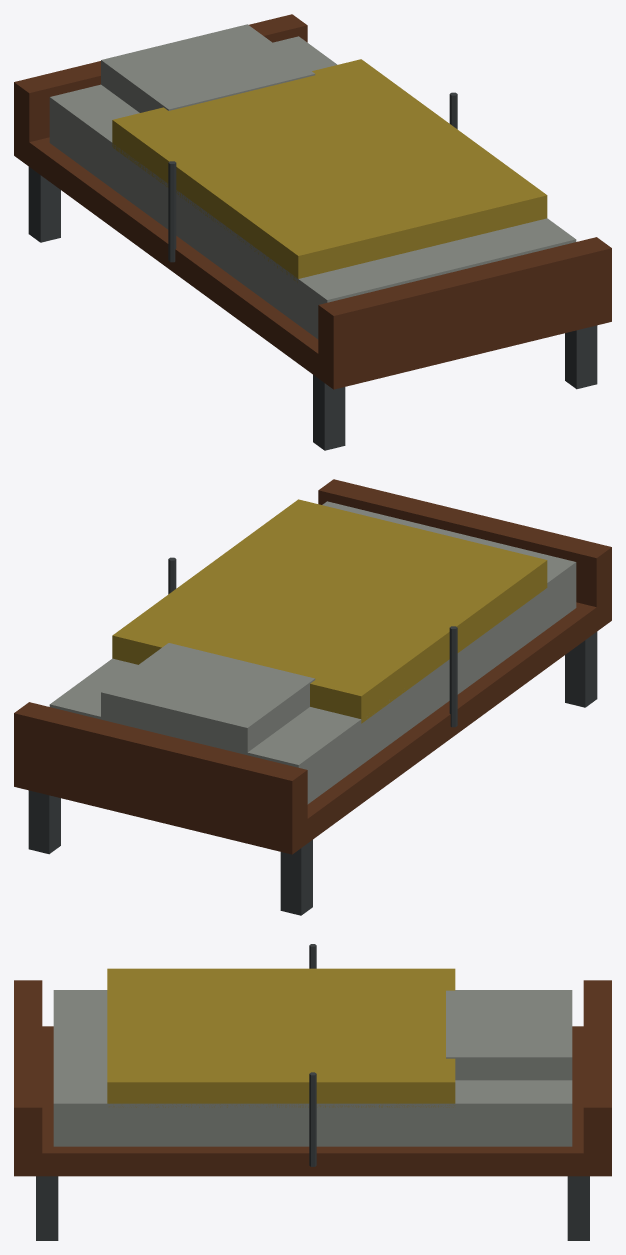
The model's file is hbed.glb.
3 renders of one model, top to bottom at view 1: azimuth 30°, elevation 25°; view 2: azimuth 150°, elevation 25°; view 3: azimuth 270°, elevation 25°, orthographic. The views are drawn at different scales.
Visible parts, largest first — view 1: body; view 2: body; view 3: body.
Part boxes in pixels (bbox=[...]): body: bbox=[14, 14, 611, 450]; body: bbox=[14, 479, 611, 915]; body: bbox=[14, 944, 611, 1240].
Bounding box in the file's own units: 0.9808 × 0.59 × 1.89.
1 material, 1 textured.
